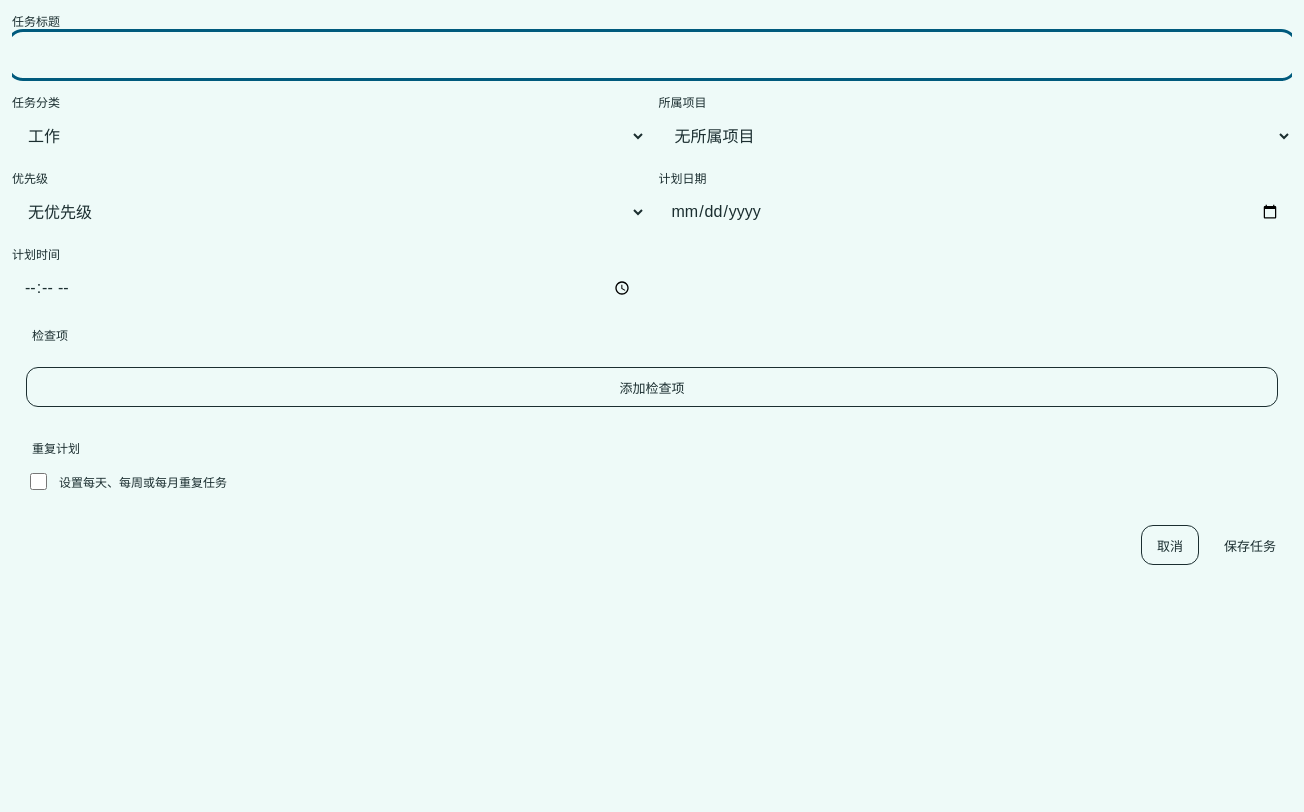
Test: TaskEditor › keeps invalid input and exposes an accessible error
Click the button "保存任务".
click(1250, 545)  # box [1208,525,1292,565]
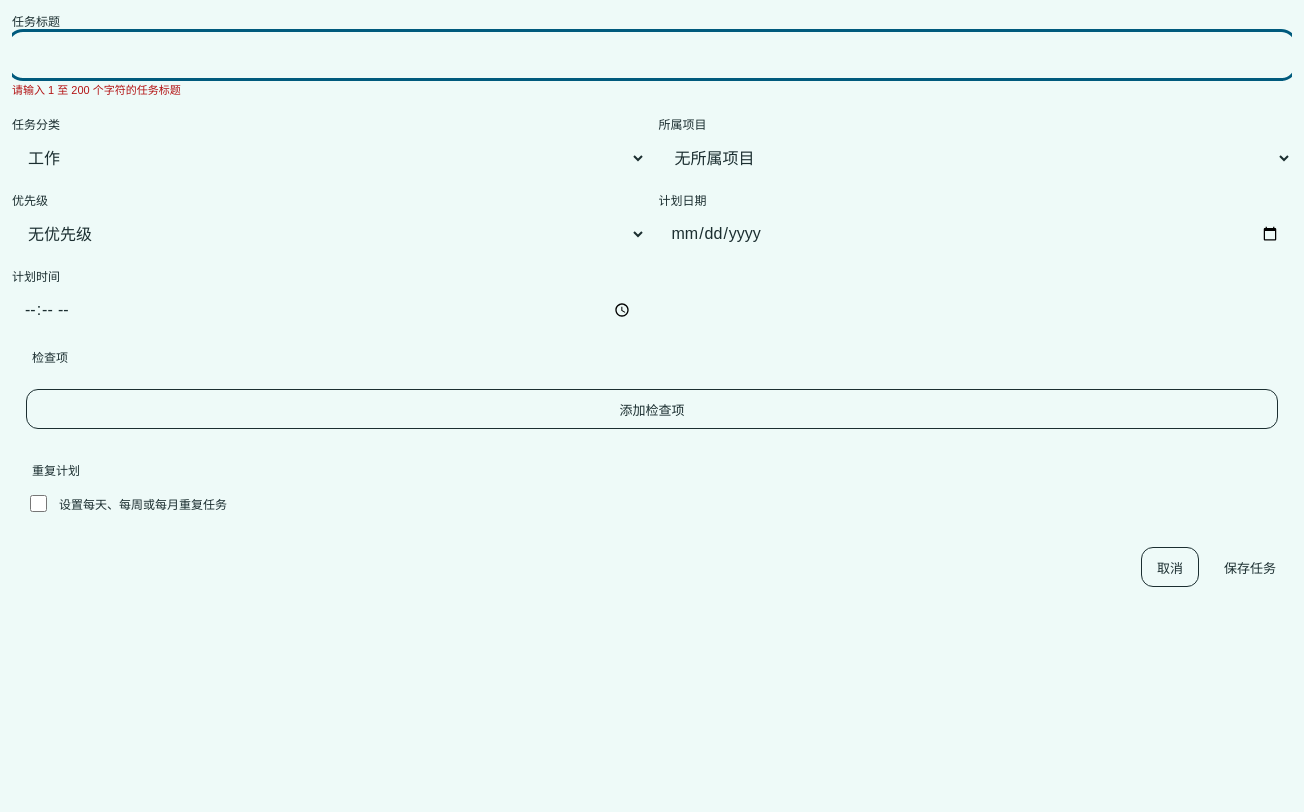
Now the text "请输入 1 至 200 个字符的任务标题" is shown, box [12,84,181,96]
